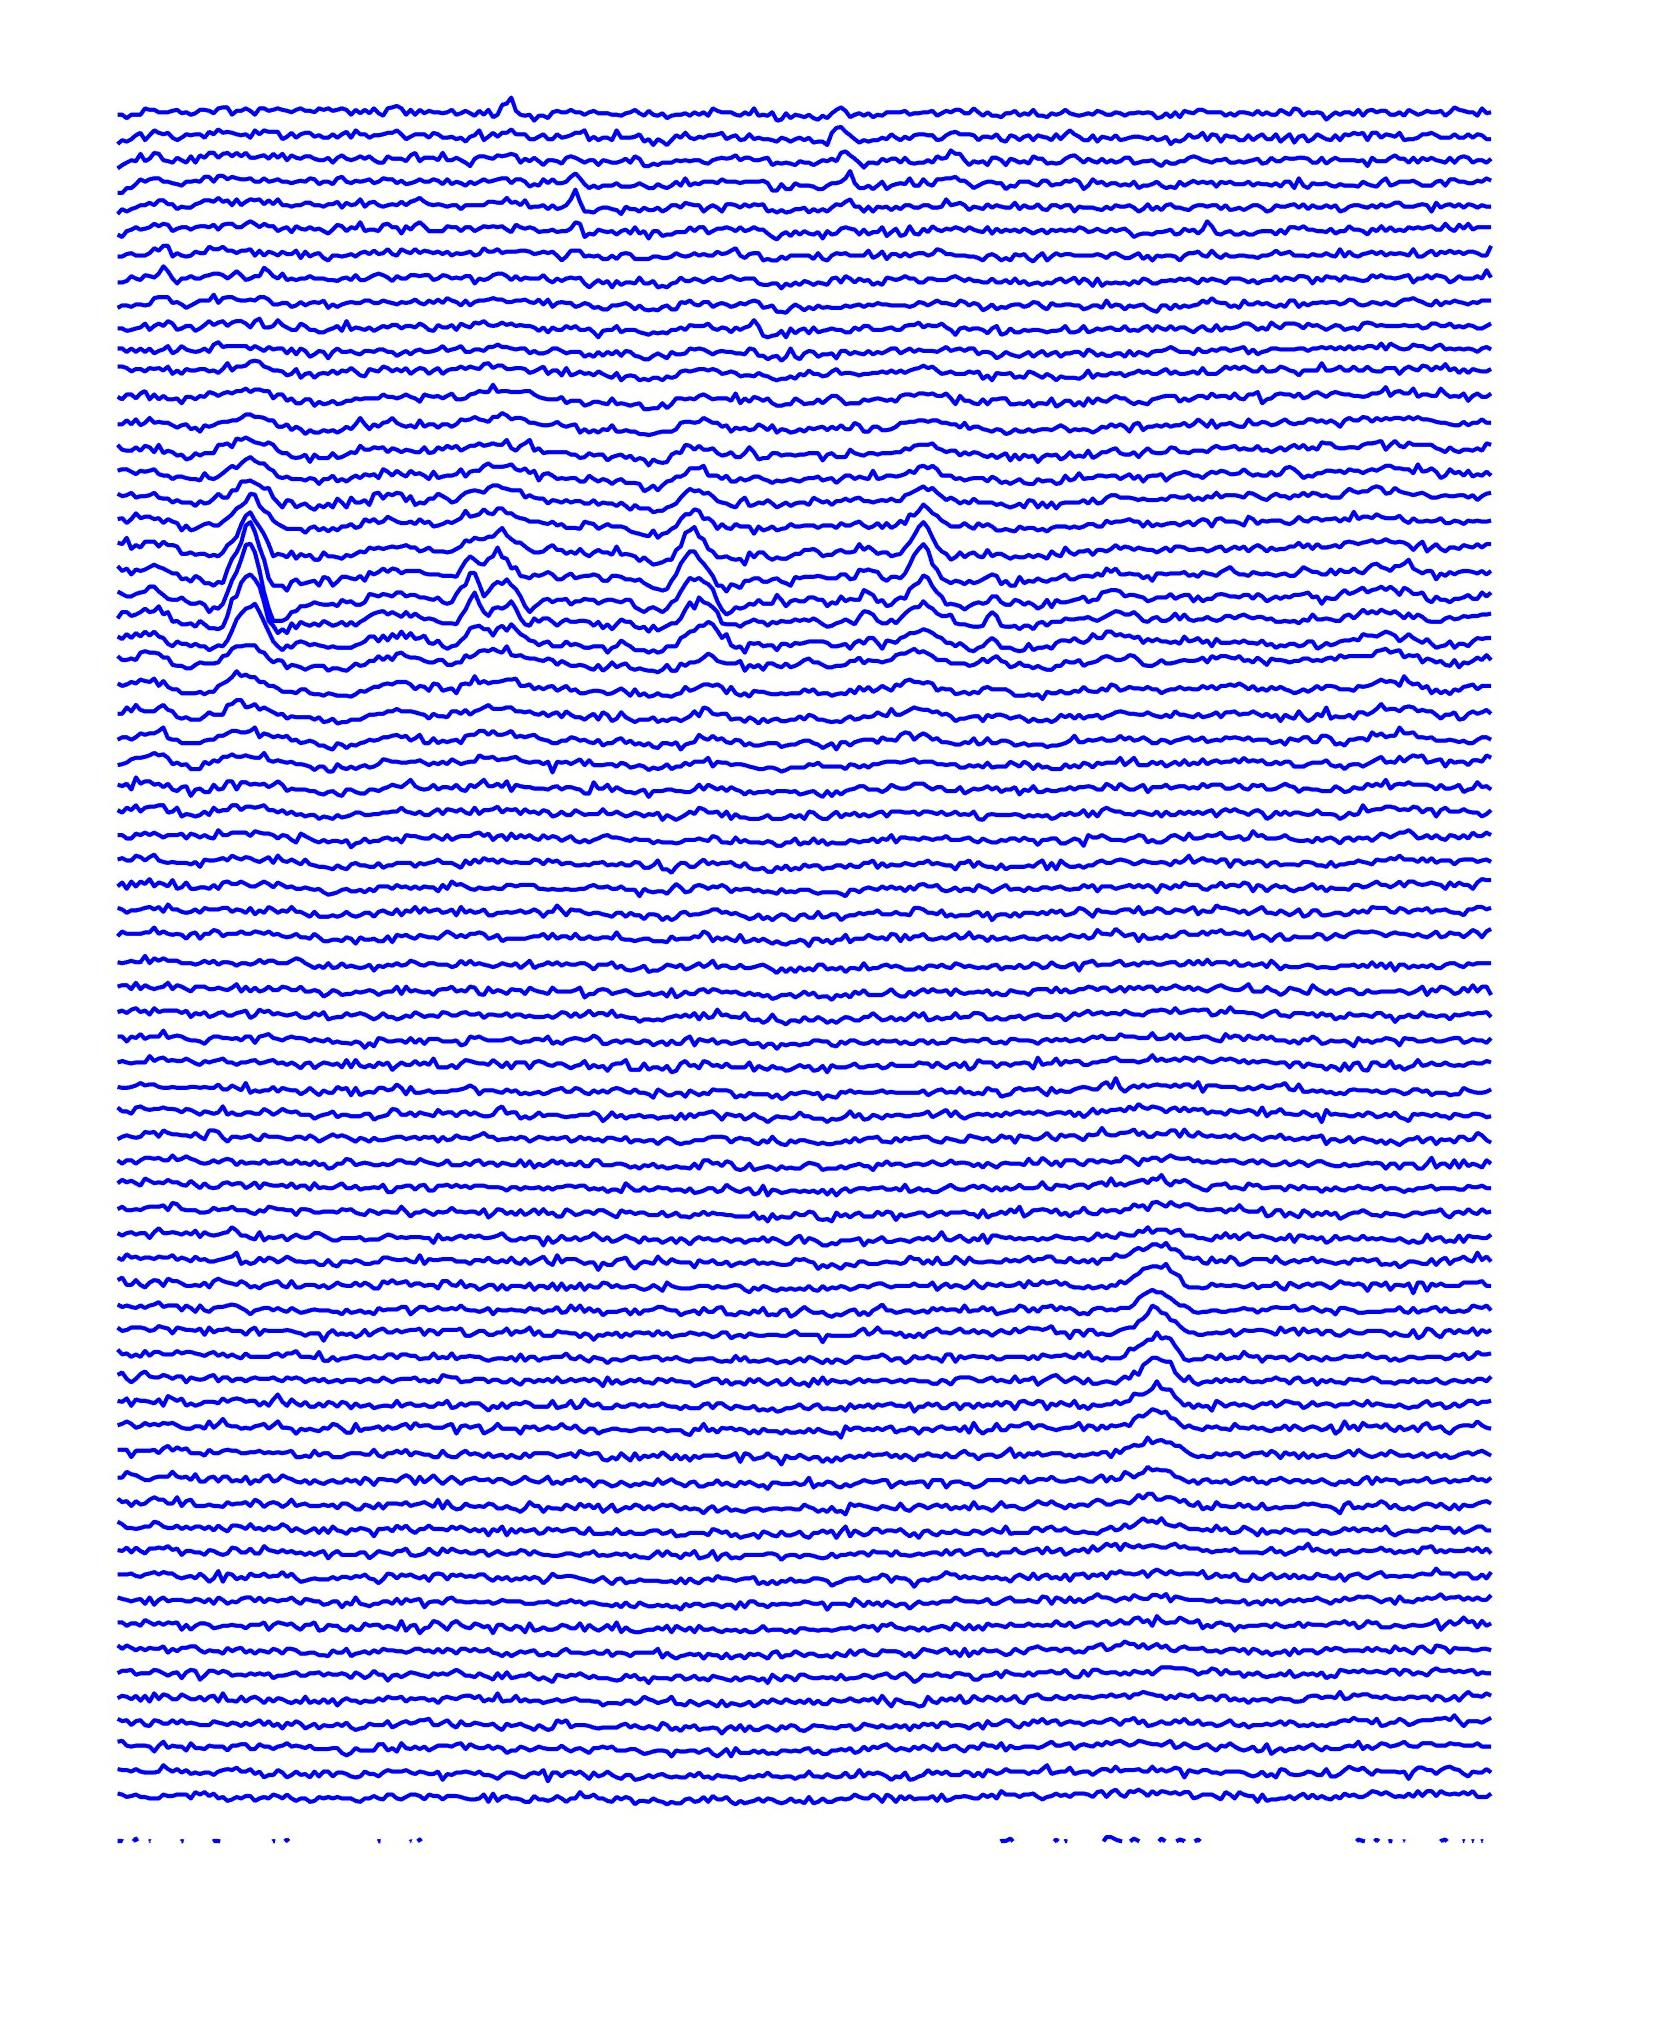defect: (1100, 1257, 1197, 1445), (202, 505, 296, 674), (877, 478, 963, 659), (658, 467, 732, 672), (461, 520, 530, 669), (542, 158, 618, 283), (815, 64, 872, 204)
